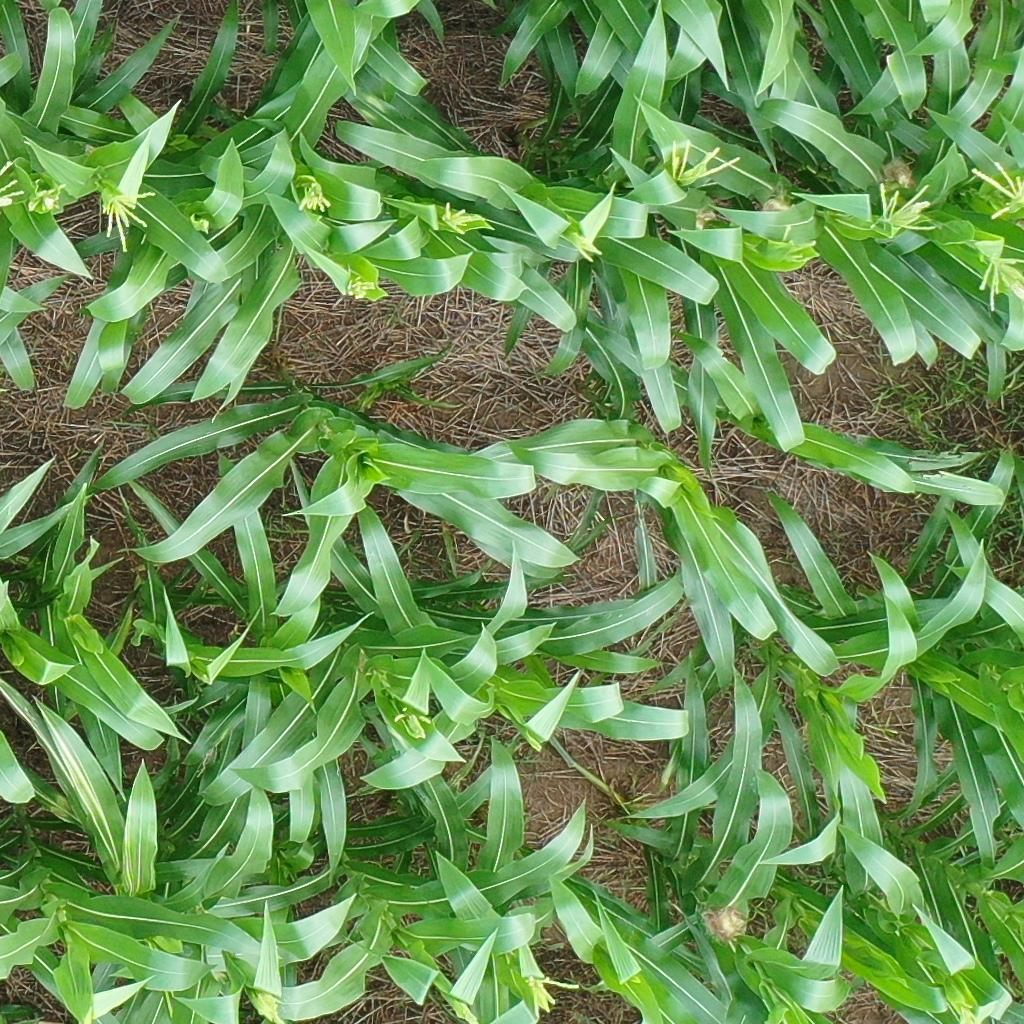Tassel: (661, 133, 742, 187), (100, 191, 159, 256), (874, 178, 936, 238), (976, 249, 1023, 313), (971, 159, 1024, 215), (527, 971, 578, 1009), (779, 223, 820, 268), (436, 205, 486, 240), (392, 707, 433, 742), (566, 227, 602, 265), (1, 156, 29, 202), (344, 268, 378, 305), (249, 991, 286, 1024), (292, 184, 333, 213), (30, 182, 64, 214)
